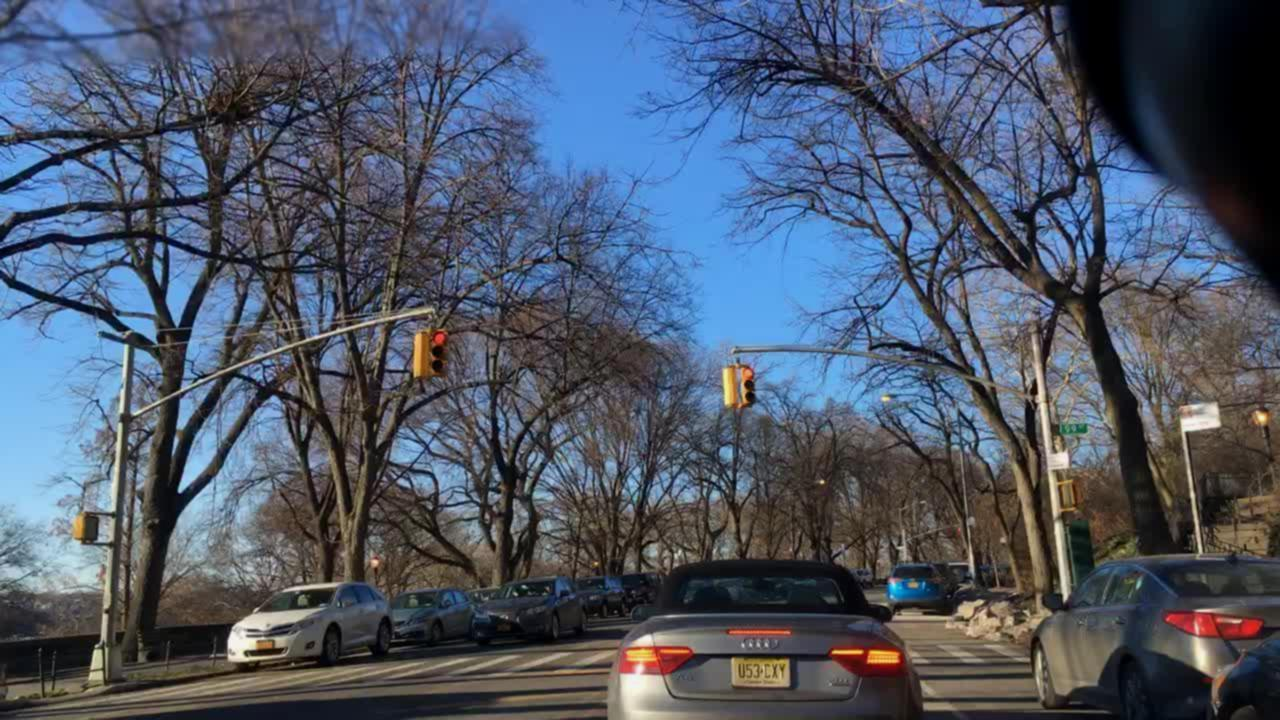Audi: (737, 632, 781, 657)
